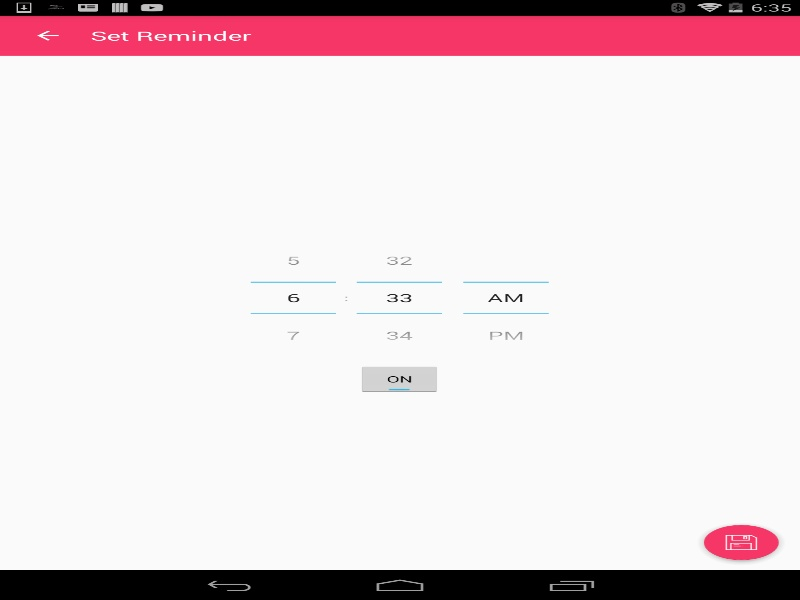Button: (688, 513, 794, 571), (250, 312, 336, 354), (356, 312, 442, 354), (463, 312, 548, 354), (250, 241, 336, 282), (356, 241, 442, 282), (10, 15, 85, 55)
Input: (250, 282, 336, 312), (356, 282, 442, 312), (463, 282, 548, 312)
